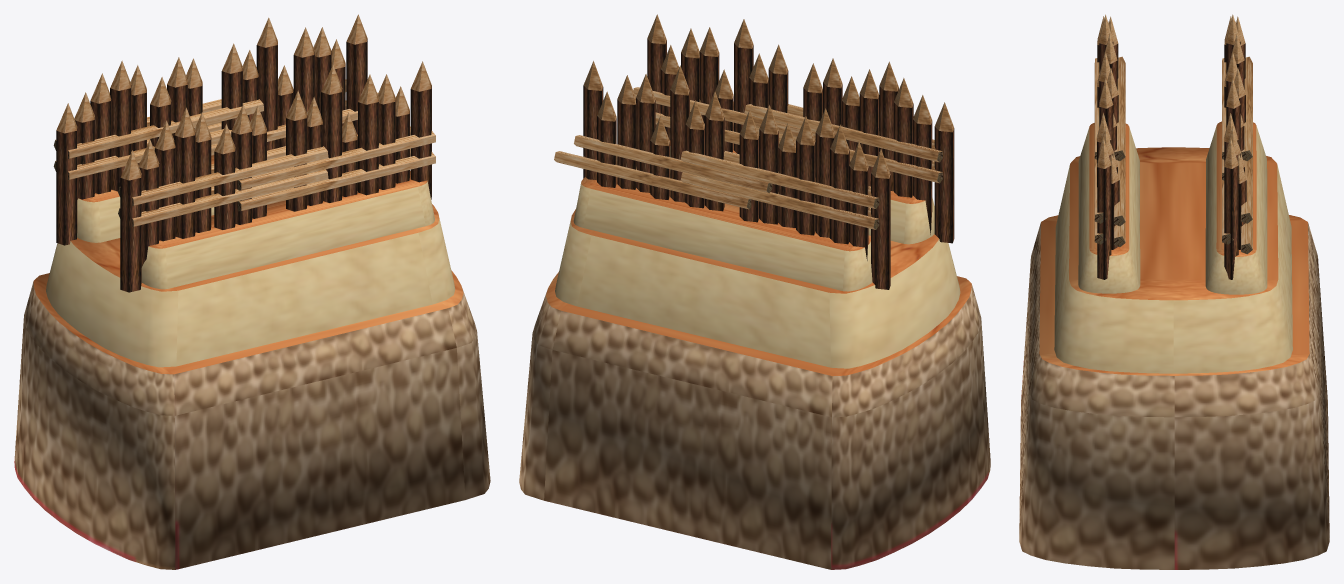
The model's file is wall_short.dae.
The picture shows the model from 3 angles, left to right: view 1: azimuth 30°, elevation 25°; view 2: azimuth 150°, elevation 25°; view 3: azimuth 270°, elevation 25°; orthographic projection.
Parts seen in each view (by area): view 1: wall_short; view 2: wall_short; view 3: wall_short.
Boxes of the visible parts, x1,y1,x2,y2 form: wall_short: (14, 14, 490, 569); wall_short: (519, 14, 990, 569); wall_short: (1019, 14, 1329, 569).
Bounding box in the file's own units: 16.56 × 11.66 × 17.45.
